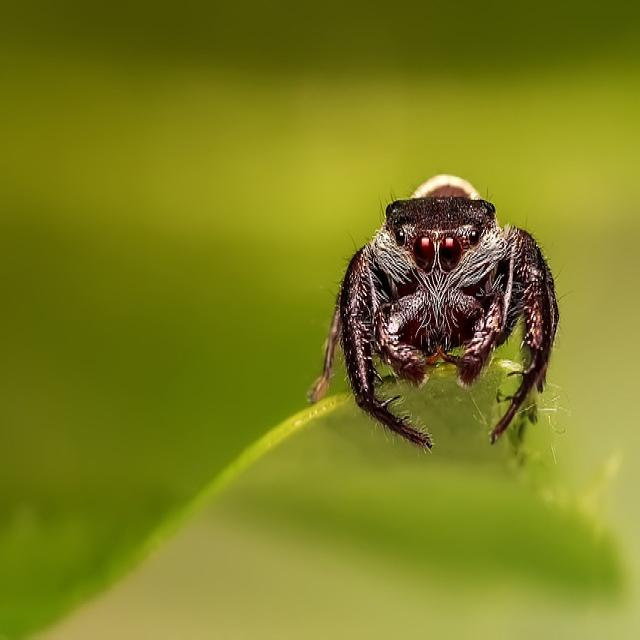spyder: (311, 175, 559, 448)
